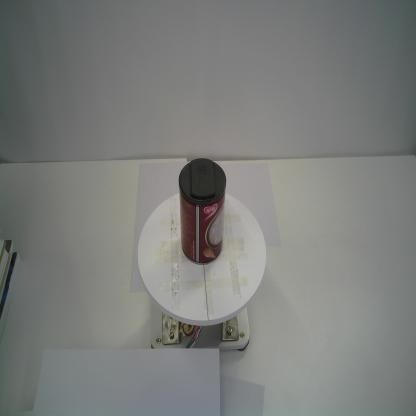Canned Food: (177, 156, 227, 266)
